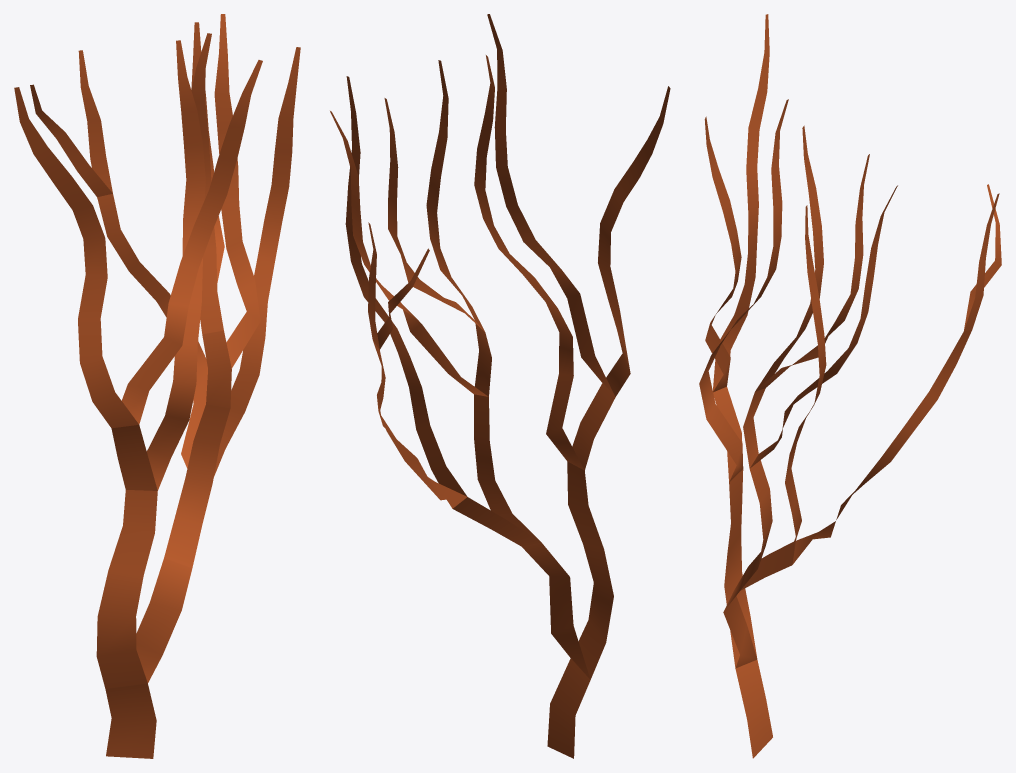
File: coral_seagrass_D_raqam_ultralight_flat.fbx
3 views of the same model, side by side, from view 1: azimuth 30°, elevation 25°; view 2: azimuth 150°, elevation 25°; view 3: azimuth 270°, elevation 25° (orthographic). The views are drawn at different scales.
Visible parts, largest first — view 1: coral_seagrass_D_raqam_ultralight_flat; view 2: coral_seagrass_D_raqam_ultralight_flat; view 3: coral_seagrass_D_raqam_ultralight_flat.
Boxes of the visible parts, box(x1,y1,x2,y2) form: coral_seagrass_D_raqam_ultralight_flat: box(14, 14, 300, 758); coral_seagrass_D_raqam_ultralight_flat: box(330, 14, 670, 758); coral_seagrass_D_raqam_ultralight_flat: box(699, 14, 1001, 758).
Size of the model in its own units: 61.56 by 134 by 53.98.
